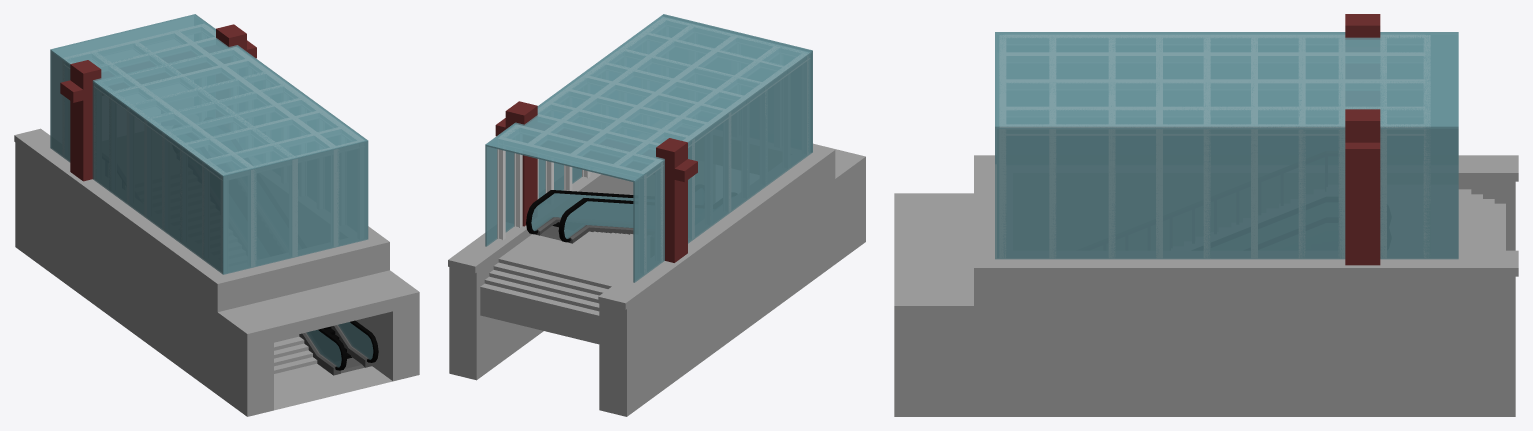
File: cry_subway station_01_dylan.fbx
3 views of the same model, side by side, from view 1: azimuth 30°, elevation 25°; view 2: azimuth 150°, elevation 25°; view 3: azimuth 270°, elevation 25° (orthographic). The views are drawn at different scales.
Visible parts, largest first — view 1: pCube118; view 2: pCube118; view 3: pCube118.
Part boxes in pixels (x1,y1,x2,y2): pCube118: (14,14,419,416); pCube118: (448,14,865,416); pCube118: (894,14,1518,416).
Bounding box in the file's own units: 817 × 957 × 1798.
